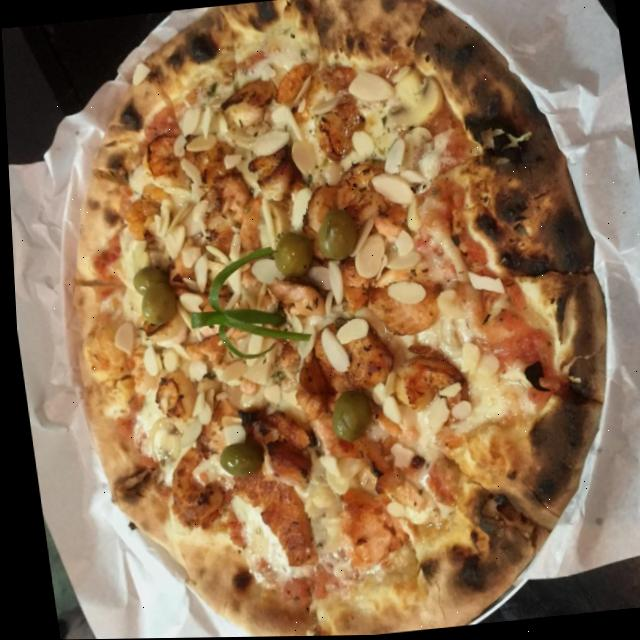green_olives: (322, 388, 373, 443), (311, 206, 361, 262), (266, 229, 312, 278), (211, 439, 262, 477), (135, 282, 175, 325), (127, 263, 169, 295)
mushrooms: (379, 68, 443, 128), (384, 124, 436, 177)
pizza: (24, 0, 640, 640)
